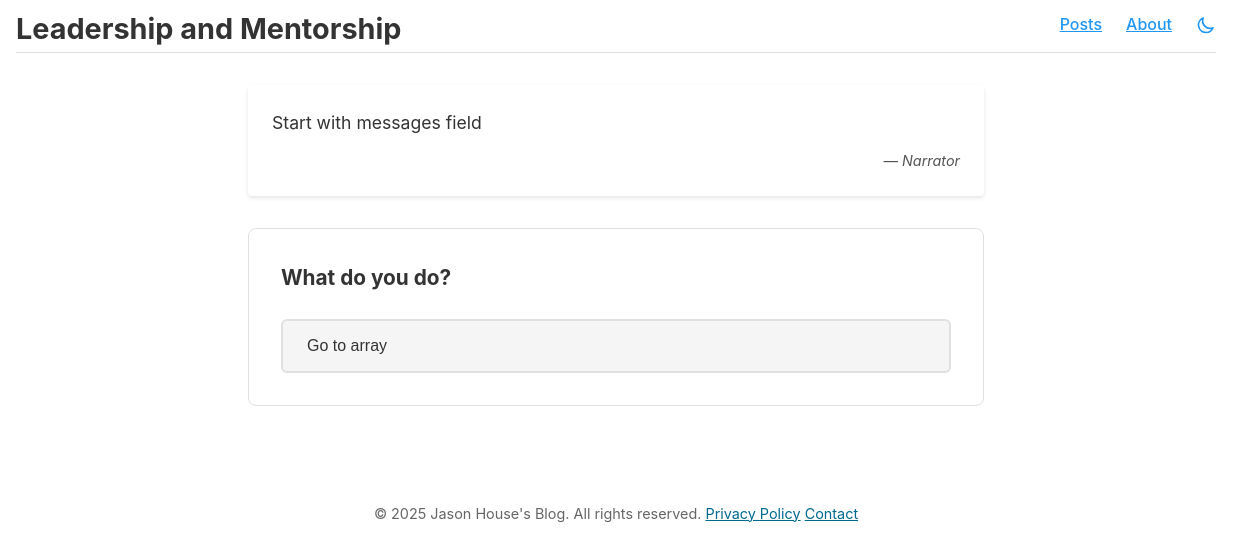
Story Message Format Handling › handles navigation with message array format
The image size is (1233, 540).
Expected: the text "Start with messages field" is shown, x1=272 y1=112 x2=482 y2=133
# Navigate to array format
Click the button "Go to array". click: (347, 345)
box: x1=281 y1=318 x2=951 y2=372
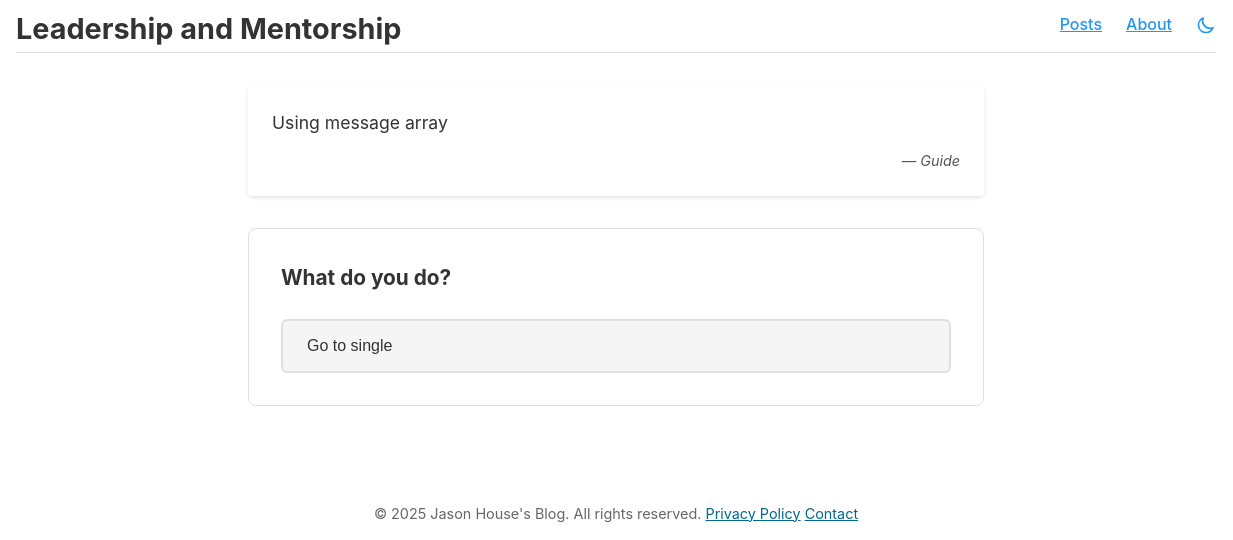
Expected: the text "Using message array" is shown, x1=272 y1=112 x2=448 y2=133
# Navigate to single object format
Click the button "Go to single". click: (350, 345)
box: x1=281 y1=318 x2=951 y2=372
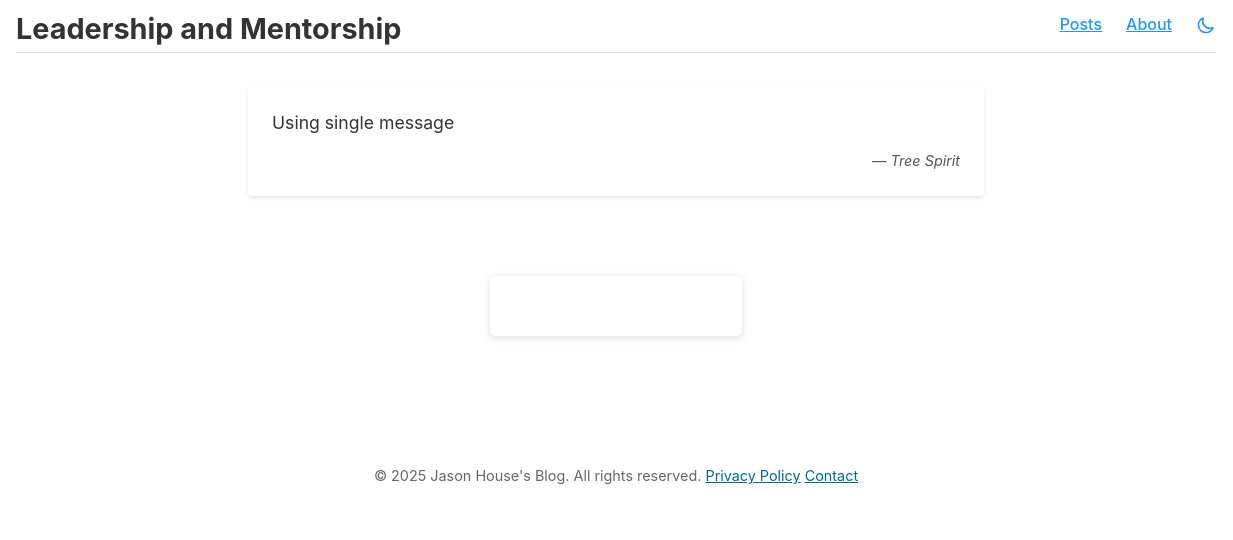
Expected: the text "Using single message" is shown, x1=272 y1=112 x2=454 y2=133
